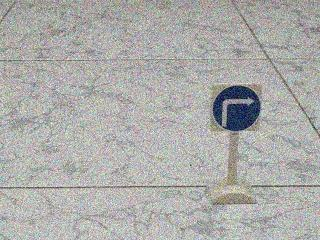right: (200, 77, 271, 147)
